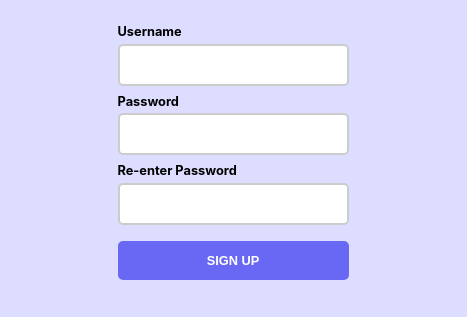
should render message: Your password and confirmation password do not match.
In the field labelled "Username": (233, 65) [118,44,348,86], type "John"
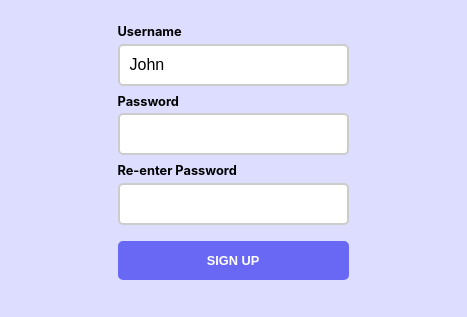
In the password field labelled "Password": (233, 134) [118,113,348,155], type "12345"
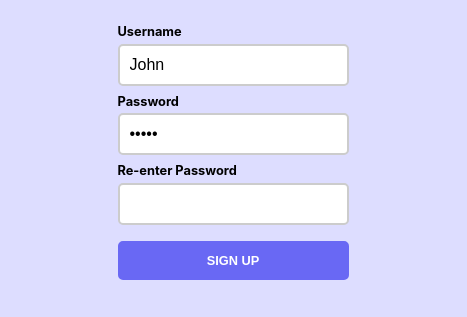
In the password field named "re-password": (233, 204) [118,183,348,225], type "12245"
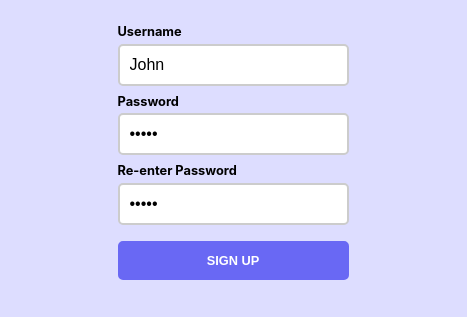
Click the button "Sign Up": (233, 261) [118,241,348,280]
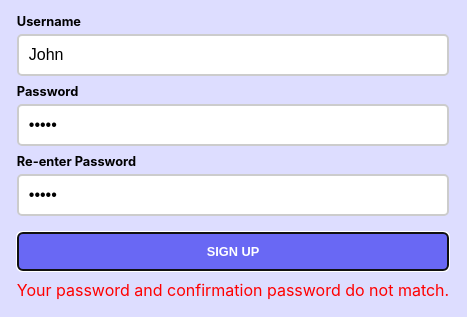
Expected: the text "Your password and confirmation password do not match." is shown, [17,281,449,300]
